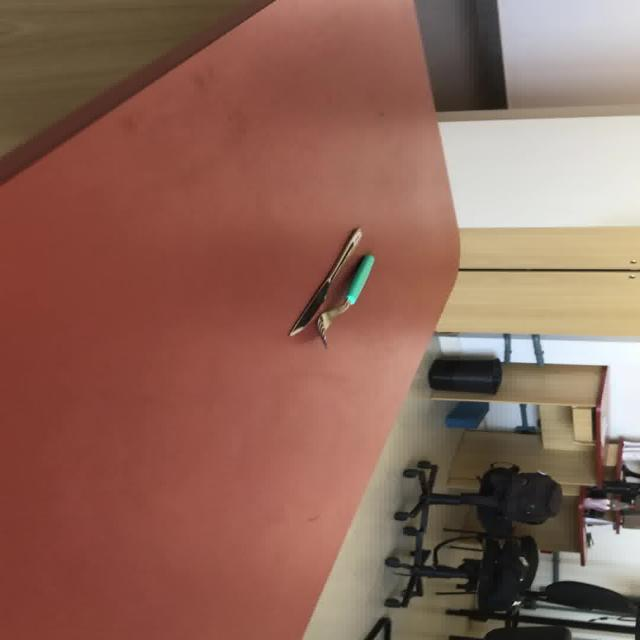knife fork: (286, 226, 363, 336)
